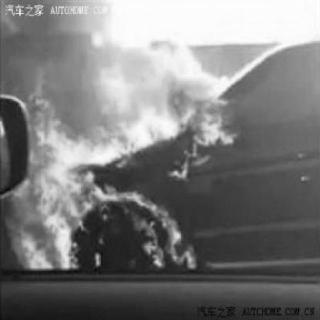Smoke: (0, 1, 200, 61)
